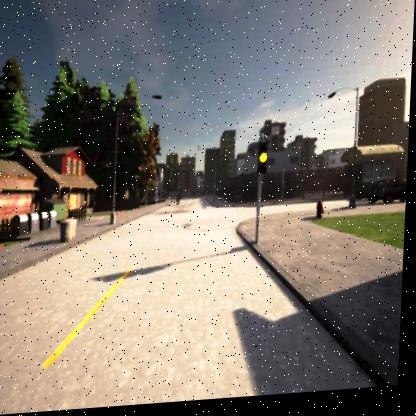vehicle: (369, 185, 407, 212)
